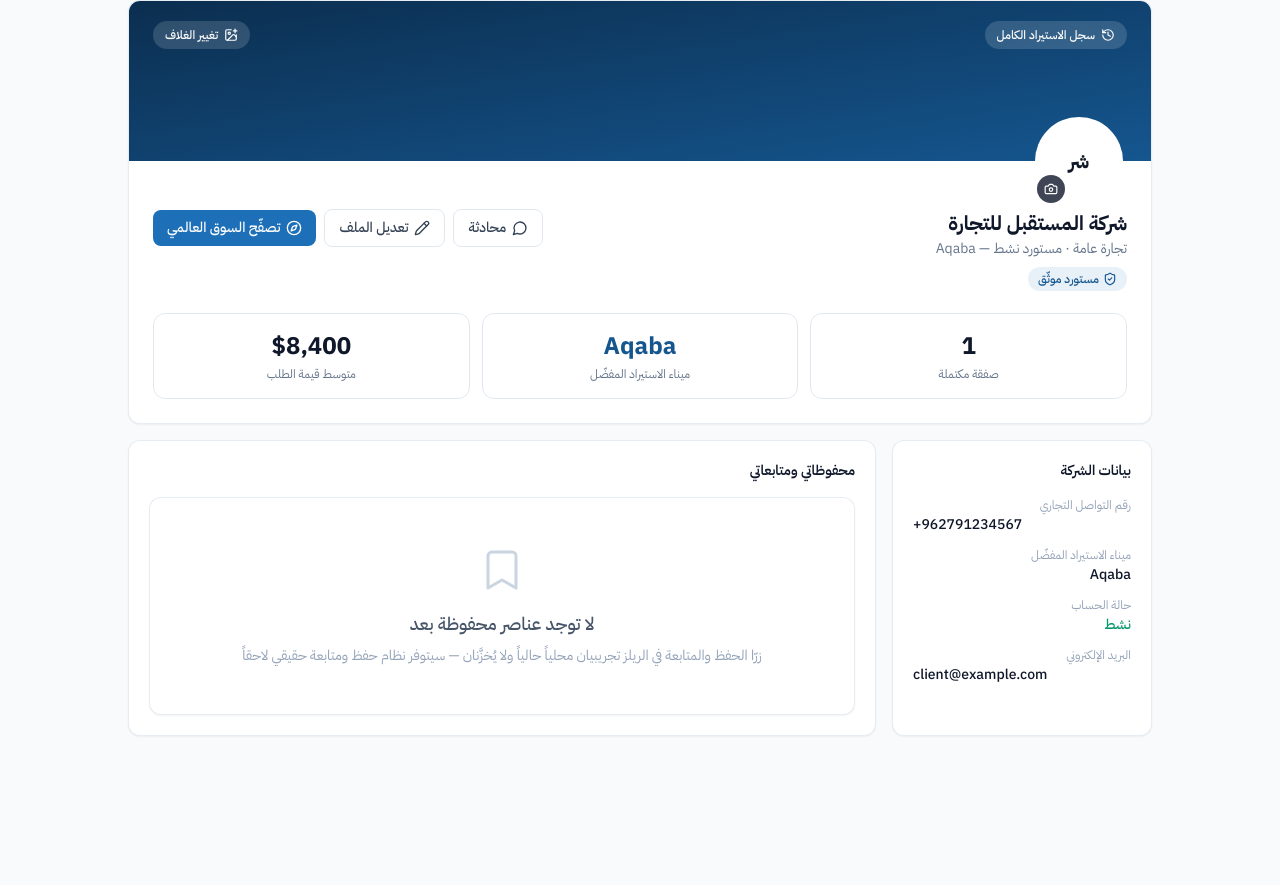
Scenario: ClientProfileDesktop › opens the edit form when 'تعديل الملف' is clicked
This screenshot has width=1280, height=885.
Expected: the heading "شركة المستقبل للتجارة" is shown, [936,209,1127,237]
Click the button "تعديل الملف" at (385, 228), box [324,209,445,247]
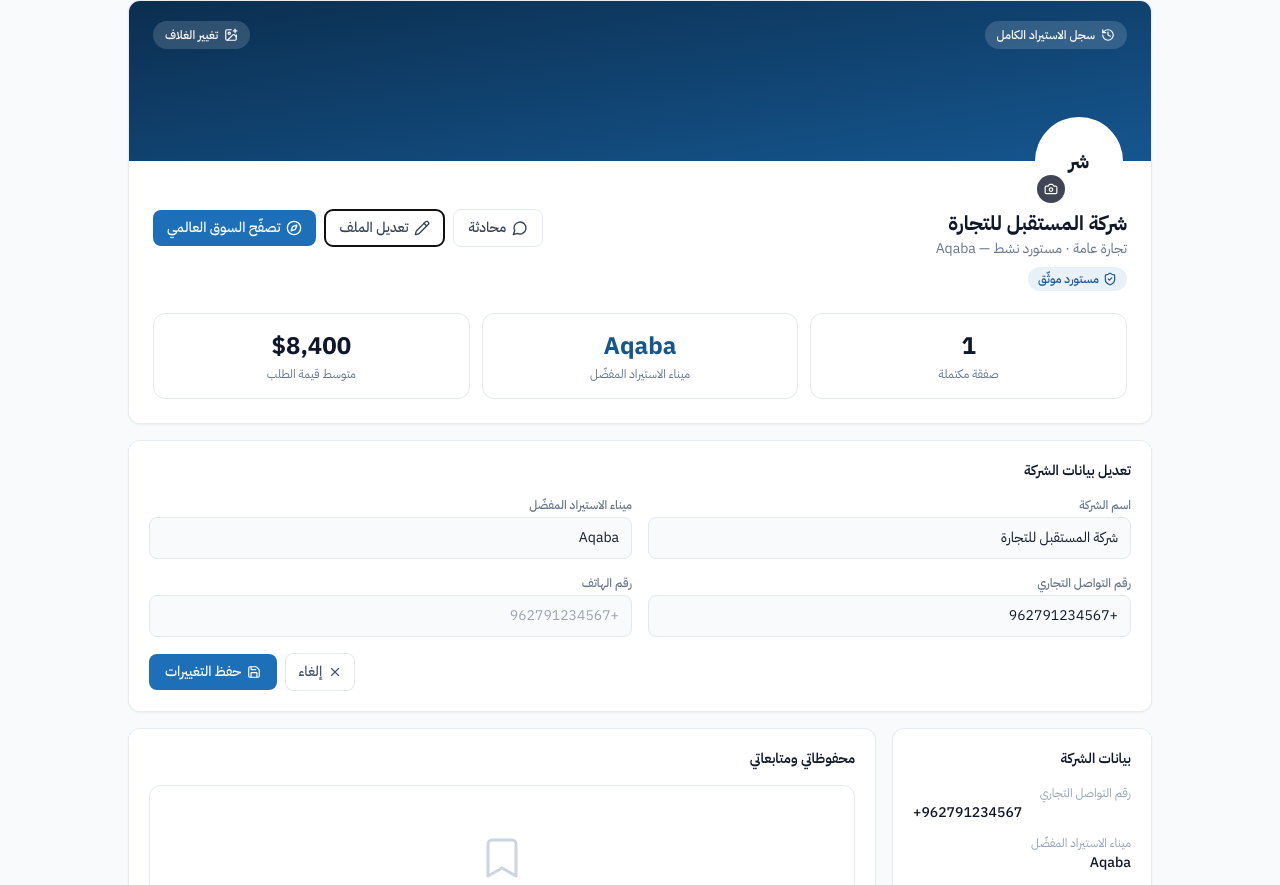
Result: the heading "تعديل بيانات الشركة" is shown at [1024,460,1131,481]
